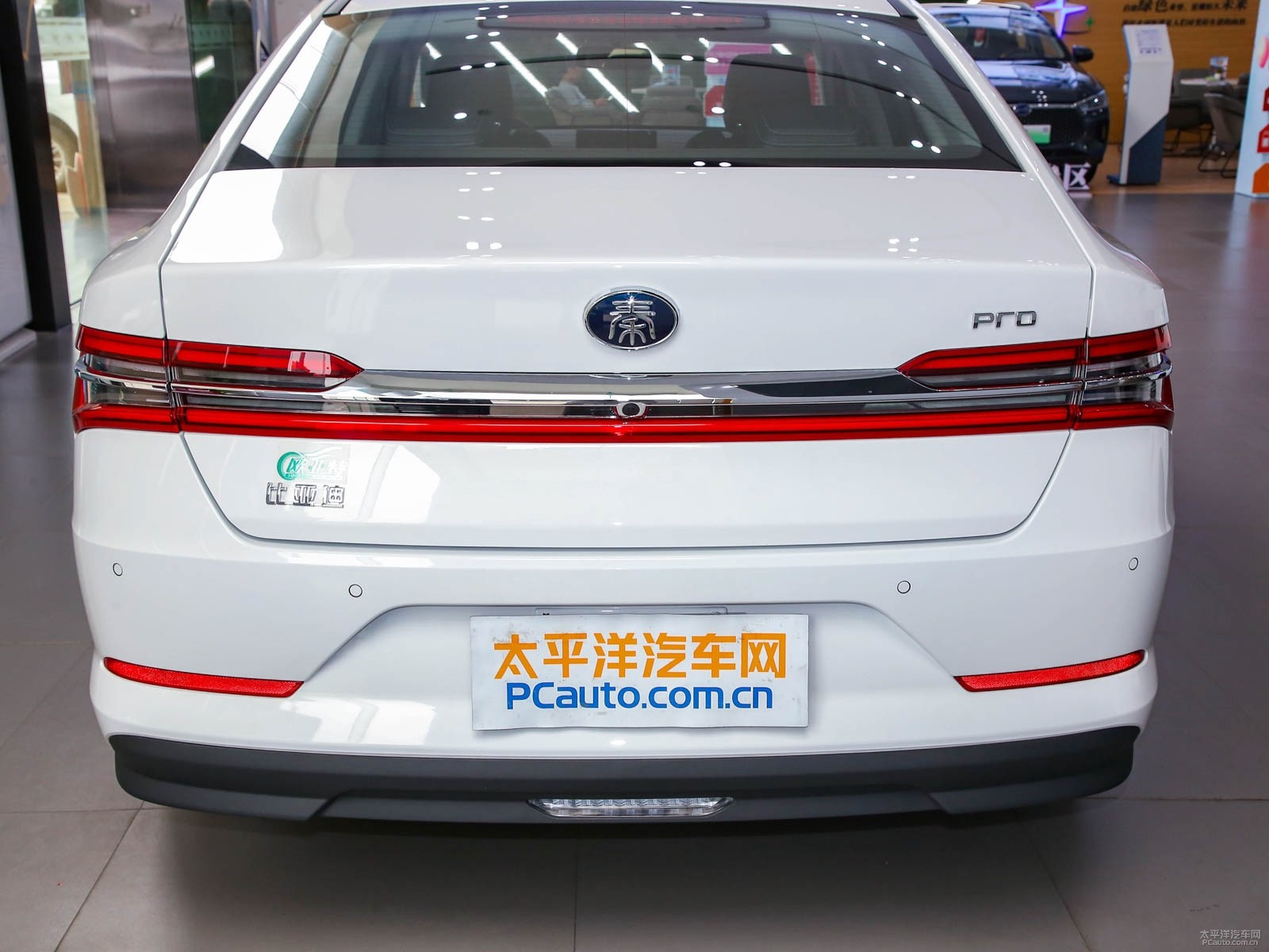BYD Qin: (585, 290, 677, 349)
